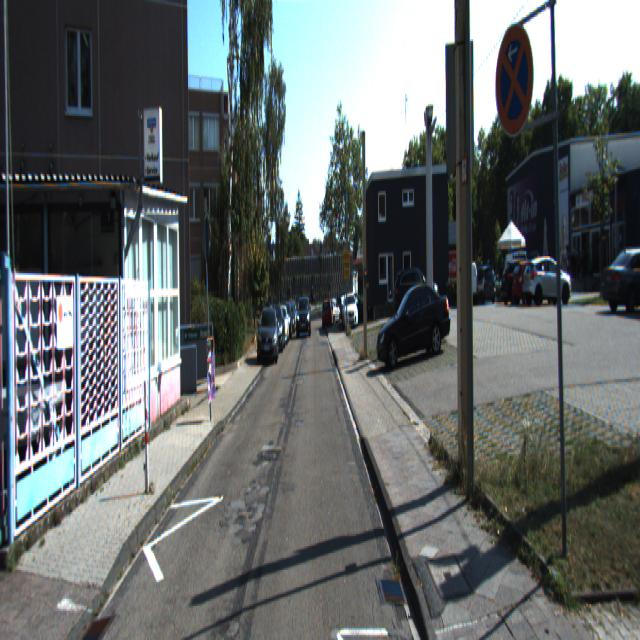Car: (372, 272, 454, 368), (599, 235, 639, 309), (522, 252, 574, 304), (392, 270, 438, 328), (510, 254, 560, 304), (255, 300, 279, 362), (472, 263, 498, 304), (455, 256, 478, 302), (296, 296, 312, 339), (341, 290, 358, 328)
